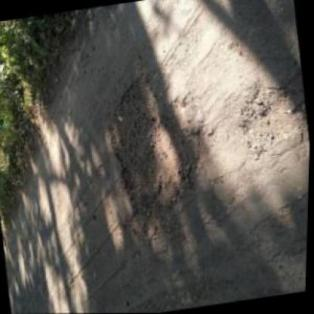Hueco: (100, 64, 228, 239), (236, 78, 312, 159)
